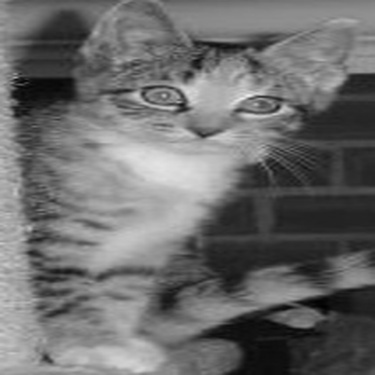cat: (1, 1, 366, 342)
